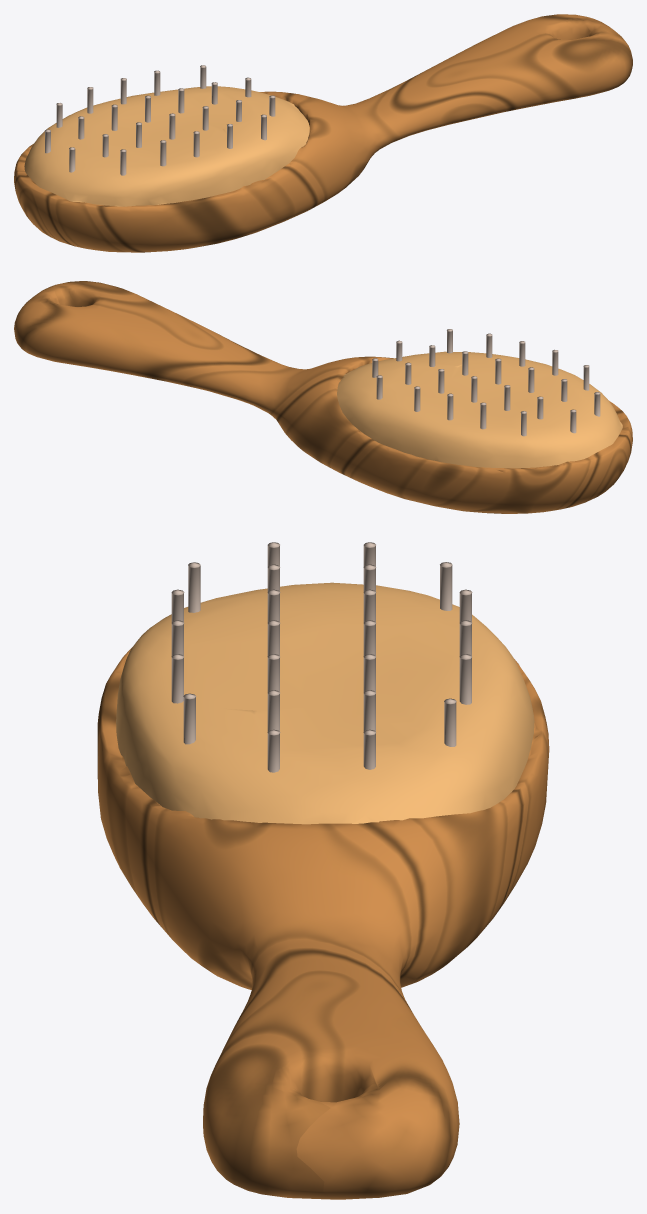
File: brush.fbx
3 views of the same model, one above another, from view 1: azimuth 30°, elevation 25°; view 2: azimuth 150°, elevation 25°; view 3: azimuth 270°, elevation 25° (orthographic). The views are drawn at different scales.
Parts seen in each view (by area): view 1: brush.002; view 2: brush.002; view 3: brush.002.
Part boxes in pixels (x1,y1,x2,y2): brush.002: (14,14,632,252); brush.002: (14,281,632,513); brush.002: (97,542,549,1199).
Bounding box in the file's own units: 67.55 × 13.21 × 22.44.
1 material, 1 textured.
